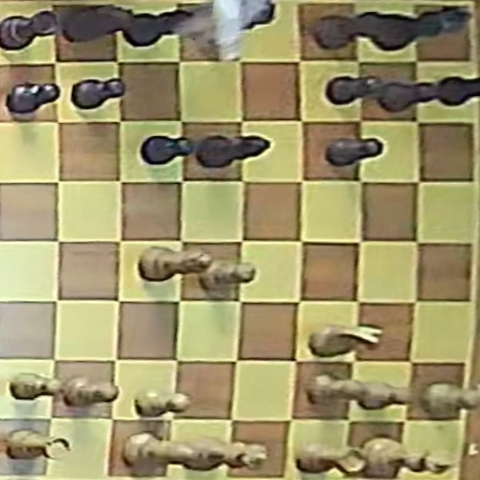black-bishop: (120, 7, 199, 47), (195, 135, 270, 168)
black-king: (370, 6, 471, 52)
black-knight: (59, 6, 137, 45)
black-pawn: (377, 79, 441, 112), (141, 135, 197, 168), (6, 81, 60, 115), (326, 76, 387, 106), (325, 137, 383, 167), (72, 78, 126, 110), (431, 75, 478, 107)
black-queen: (171, 0, 276, 40)
black-rook: (312, 10, 385, 51), (1, 11, 60, 51)
white-bishop: (123, 432, 206, 469), (137, 247, 210, 286)
white-king: (361, 439, 453, 477)
white-knight: (309, 323, 381, 356)
white-pawn: (418, 381, 478, 417), (198, 260, 256, 294), (307, 374, 369, 405), (61, 377, 119, 408), (135, 388, 191, 417), (354, 380, 408, 409), (9, 372, 61, 401)
white-queen: (181, 437, 270, 470)
white-rook: (297, 441, 369, 475), (3, 430, 70, 460)
